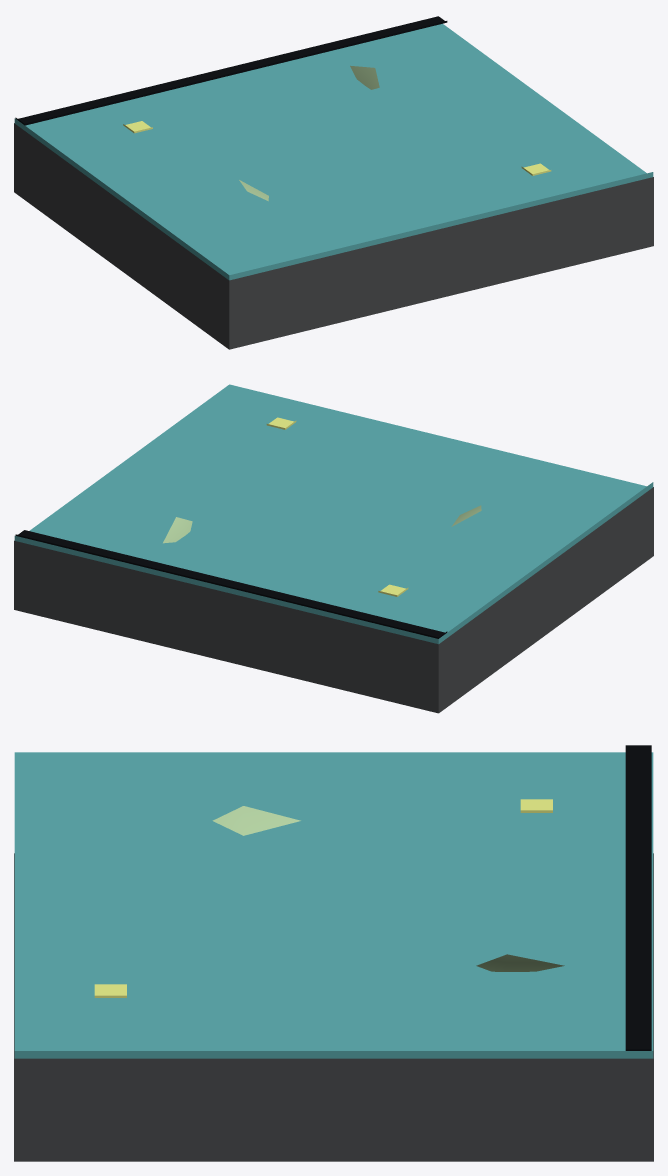
The model's file is tt_climb_mat_300_180x158.glb.
3 views of the same model, one above another, from view 1: azimuth 30°, elevation 25°; view 2: azimuth 150°, elevation 25°; view 3: azimuth 270°, elevation 25° (orthographic). The views are drawn at different scales.
Visible parts, largest first — view 1: Mat_Cover, Mat_Core, Velcro_Seam_Flap, Leaf_Print; view 2: Mat_Cover, Mat_Core, Velcro_Seam_Flap, Leaf_Print; view 3: Mat_Cover, Mat_Core, Velcro_Seam_Flap, Leaf_Print, Ball_Dots.
Part boxes in pixels (bbox=[...]): Mat_Cover: bbox=[14, 23, 653, 280]; Mat_Core: bbox=[14, 123, 653, 349]; Velcro_Seam_Flap: bbox=[15, 16, 447, 125]; Leaf_Print: bbox=[239, 65, 379, 201]; Mat_Cover: bbox=[14, 384, 653, 644]; Mat_Core: bbox=[14, 487, 653, 713]; Velcro_Seam_Flap: bbox=[15, 530, 447, 638]; Leaf_Print: bbox=[163, 505, 481, 543]; Mat_Cover: bbox=[14, 752, 653, 1058]; Mat_Core: bbox=[14, 853, 653, 1161]; Velcro_Seam_Flap: bbox=[625, 745, 651, 1050]; Leaf_Print: bbox=[212, 806, 564, 971]; Ball_Dots: bbox=[94, 799, 552, 997].
Size of what is drawn, in the model's own units: 1.8 by 0.3412 by 1.58.
5 materials, 1 textured.
